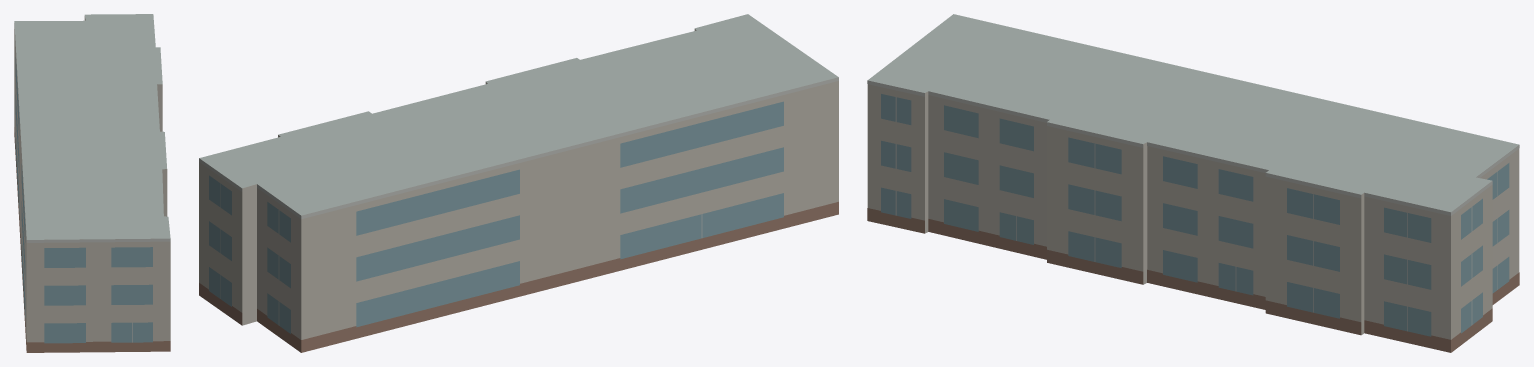
File: survey-upis-32902848.glb
3 views of the same model, side by side, from view 1: azimuth 30°, elevation 25°; view 2: azimuth 150°, elevation 25°; view 3: azimuth 270°, elevation 25° (orthographic). The views are drawn at different scales.
Parts seen in each view (by area): view 1: survey-upis-32902848.tmp; view 2: survey-upis-32902848.tmp; view 3: survey-upis-32902848.tmp.
Boxes of the visible parts, left/top/right/bottom form: survey-upis-32902848.tmp: left=14, top=14, right=170, bottom=352; survey-upis-32902848.tmp: left=199, top=14, right=838, bottom=352; survey-upis-32902848.tmp: left=867, top=14, right=1519, bottom=352.
Size of the model in its own units: 27.69 by 9.15 by 38.47.
